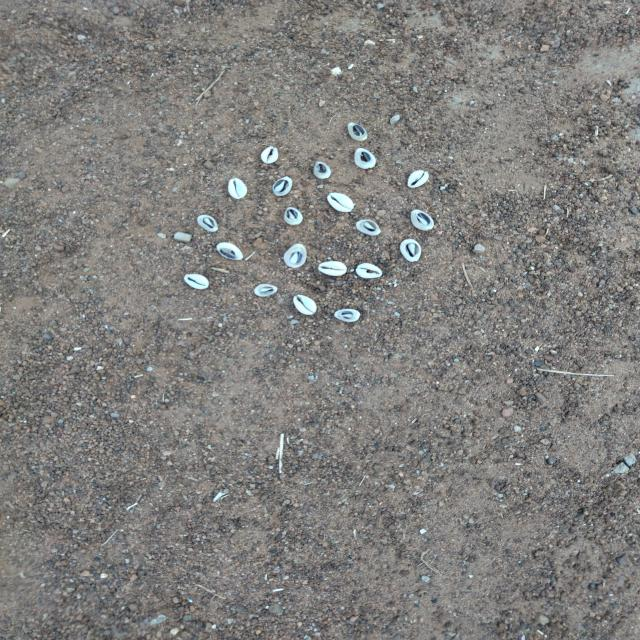facedown: (283, 243, 310, 269), (214, 242, 243, 263), (411, 208, 436, 232), (400, 238, 423, 264), (354, 146, 377, 170), (196, 214, 222, 233), (347, 121, 369, 142), (334, 308, 364, 323), (284, 206, 305, 227), (272, 176, 294, 196), (356, 220, 382, 236), (253, 282, 279, 298), (312, 161, 332, 181)
faceup: (326, 192, 356, 214), (355, 261, 385, 281), (225, 177, 249, 200), (293, 293, 317, 316), (318, 260, 350, 277), (182, 272, 212, 290), (406, 169, 429, 189), (262, 145, 280, 165)
